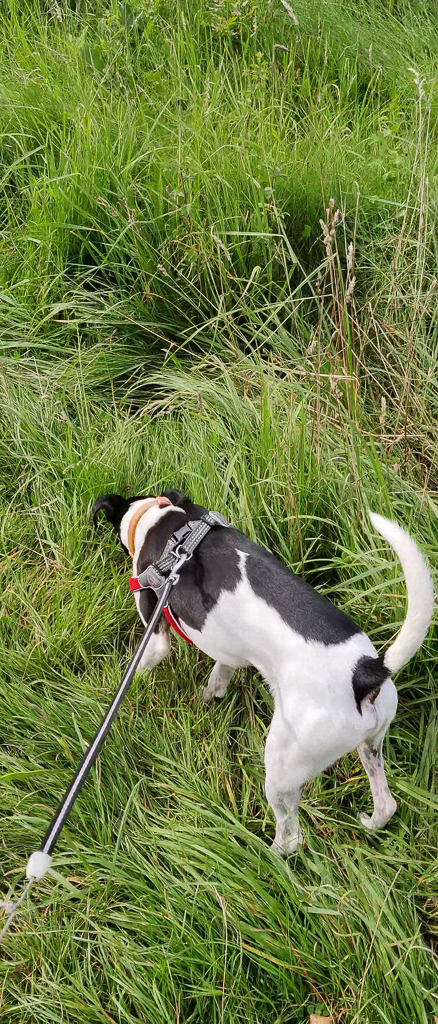Dog: (63, 456, 438, 871)
